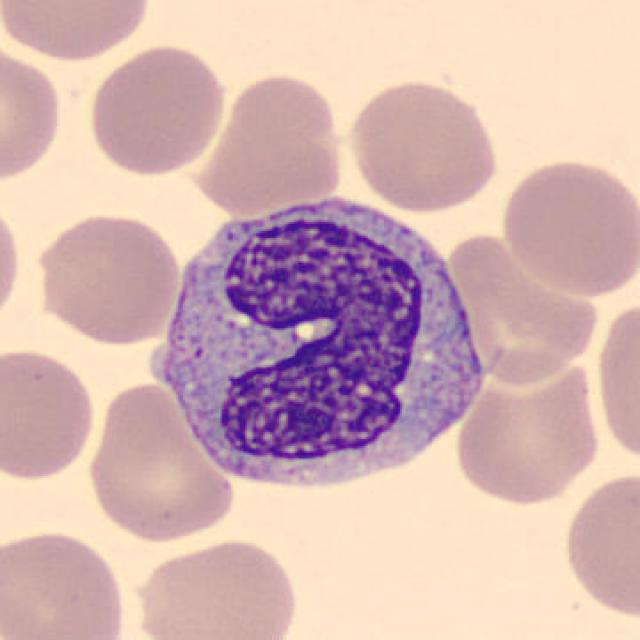Monocyte: (150, 180, 492, 504)
RBC: (439, 232, 607, 391), (82, 379, 240, 547), (450, 348, 604, 510), (188, 69, 350, 217), (343, 74, 503, 215), (30, 208, 183, 347), (496, 153, 638, 300), (84, 41, 230, 178), (128, 534, 302, 640), (0, 523, 131, 640), (0, 344, 100, 485), (558, 467, 640, 624), (0, 0, 156, 63), (0, 40, 66, 187), (592, 293, 640, 469), (0, 194, 25, 333)
